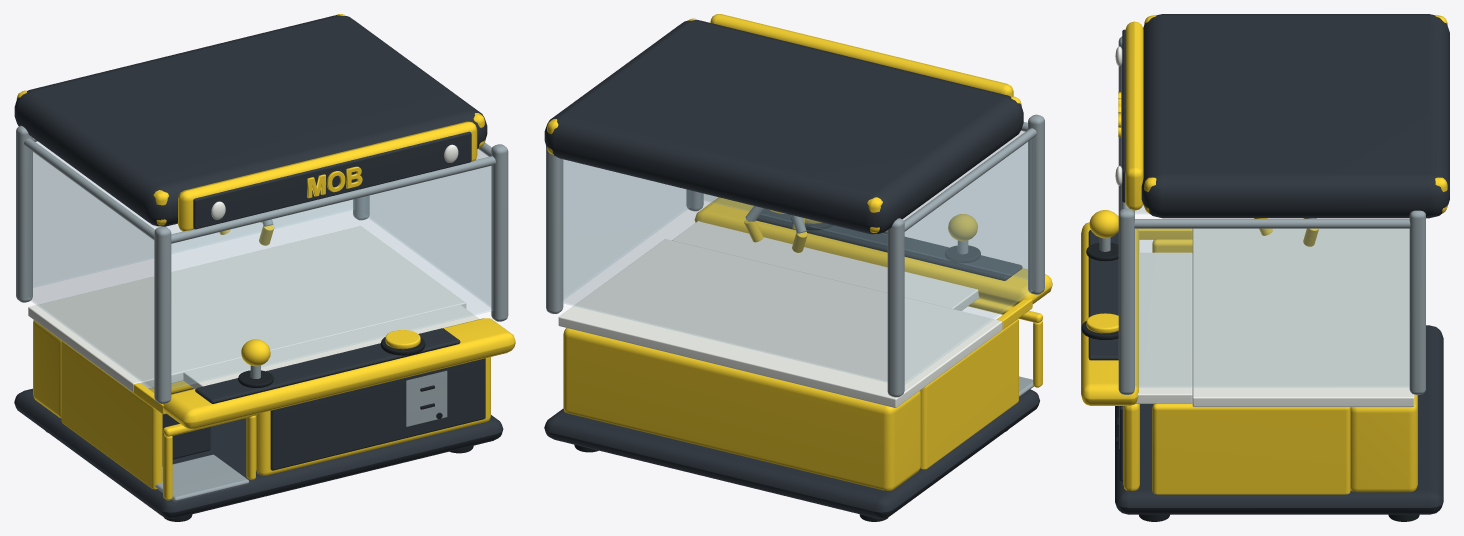
Rendered from ufo.glb.
The picture shows the model from 3 angles, left to right: view 1: azimuth 30°, elevation 25°; view 2: azimuth 150°, elevation 25°; view 3: azimuth 270°, elevation 25°; orthographic projection. The views are drawn at different scales.
Visible parts, largest first — view 1: Upper molded crown, Clear front glazing, Prize floor rear around real opening, Clear side glazing, Bottom reinforced chassis, Front dark service fascia, Rear glass, Clear side glazing.001, Sloping control shelf, Open shell side, Header dark enamel, Prize floor right of opening (+17 smaller); view 2: Upper molded crown, Rear glass, Prize floor rear around real opening, Open shell rear, Clear side glazing, Bottom reinforced chassis, Clear front glazing, Clear side glazing.001, Open shell side, Prize floor right of opening, Sloping control shelf, Illuminated header frame (+8 smaller); view 3: Upper molded crown, Clear side glazing.001, Prize floor rear around real opening, Open shell side.001, Bottom reinforced chassis, Prize floor right of opening, Open shell rear, Sloping control shelf, Illuminated header frame, Steel upright.002, Steel upright.003, Upper glazing structural side rail.001 (+9 smaller).
Part boxes in pixels (box(x1,y1,x2,y2)): Upper molded crown: box(14, 15, 487, 226); Clear front glazing: box(171, 157, 492, 388); Prize floor rear around real opening: box(28, 226, 466, 392); Clear side glazing: box(27, 148, 153, 390); Bottom reinforced chassis: box(14, 388, 503, 518); Front dark service fascia: box(270, 358, 485, 470); Rear glass: box(33, 141, 353, 287); Clear side glazing.001: box(366, 149, 490, 307); Sloping control shelf: box(163, 318, 515, 429); Open shell side: box(61, 341, 162, 489); Header dark enamel: box(193, 131, 471, 229); Prize floor right of opening: box(183, 304, 479, 388); Upper molded crown: box(544, 20, 1023, 234); Rear glass: box(561, 159, 887, 381); Prize floor rear around real opening: box(558, 239, 1002, 407); Open shell rear: box(563, 328, 920, 490); Clear side glazing: box(905, 138, 1033, 383); Bottom reinforced chassis: box(544, 389, 1039, 518); Clear front glazing: box(702, 122, 1027, 279); Clear side glazing.001: box(564, 160, 689, 298); Open shell side: box(920, 318, 1018, 469); Prize floor right of opening: box(672, 221, 979, 310); Sloping control shelf: box(694, 197, 1052, 306); Illuminated header frame: box(710, 14, 1013, 96); Upper molded crown: box(1141, 14, 1449, 218); Clear side glazing.001: box(1135, 229, 1409, 387); Prize floor rear around real opening: box(1192, 228, 1414, 407); Open shell side.001: box(1152, 403, 1350, 494); Bottom reinforced chassis: box(1115, 325, 1443, 514); Prize floor right of opening: box(1135, 252, 1192, 403); Open shell rear: box(1350, 394, 1417, 492); Sloping control shelf: box(1081, 222, 1139, 405); Illuminated header frame: box(1125, 21, 1143, 210); Steel upright.002: box(1118, 208, 1134, 394); Steel upright.003: box(1409, 210, 1425, 394); Upper glazing structural side rail.001: box(1134, 219, 1410, 228).
Bounding box in the file's own units: 3.07 × 2.78 × 2.66.
